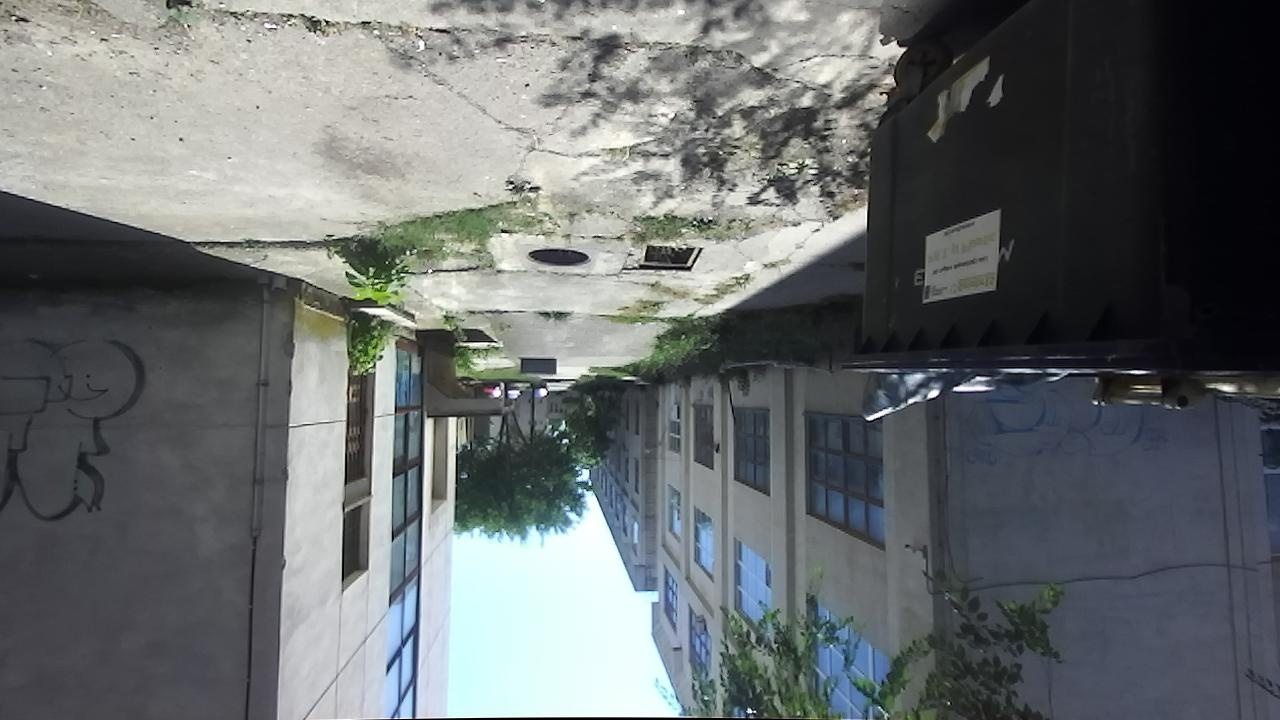drain: (637, 238, 712, 273), (523, 245, 596, 271)
